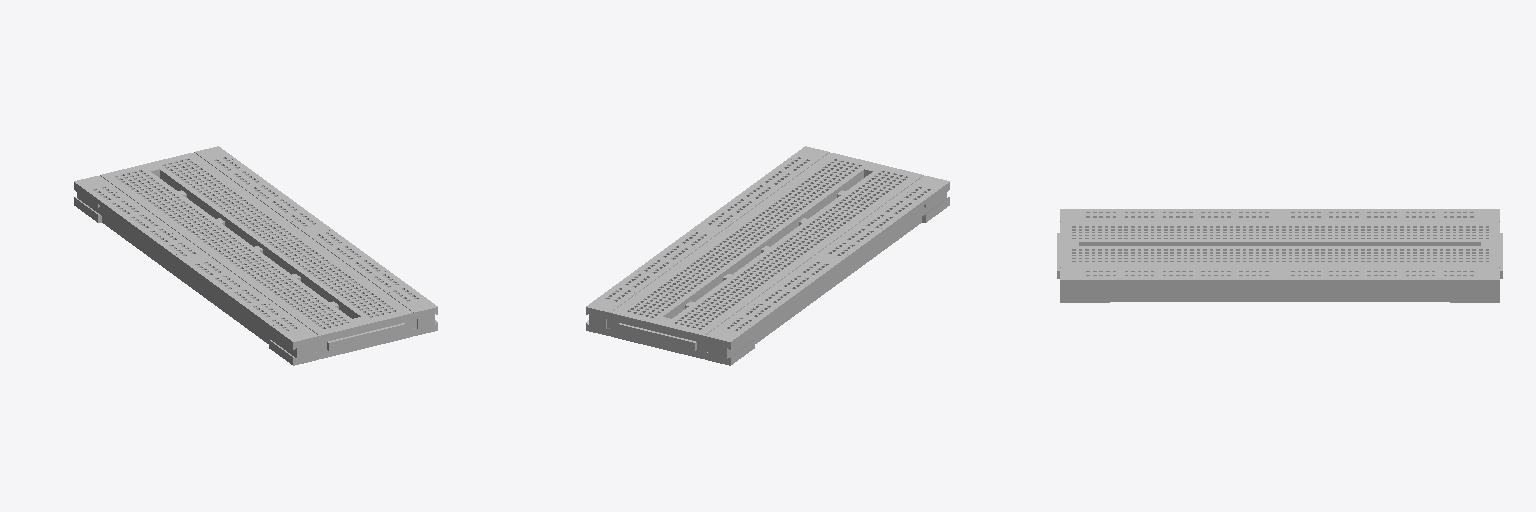
File: V2Proto.obj
3 renders of one model, left to right at view 1: azimuth 30°, elevation 25°; view 2: azimuth 150°, elevation 25°; view 3: azimuth 270°, elevation 25°, orthographic.
Visible parts, largest first — view 1: Body1_Body1.010; view 2: Body1_Body1.010; view 3: Body1_Body1.010.
Boxes of the visible parts, x1,y1,x2,y2 form: Body1_Body1.010: [74, 146, 437, 365]; Body1_Body1.010: [586, 146, 949, 365]; Body1_Body1.010: [1057, 209, 1502, 302].
Bounding box in the file's own units: 0.064 × 0.01 × 0.1705.